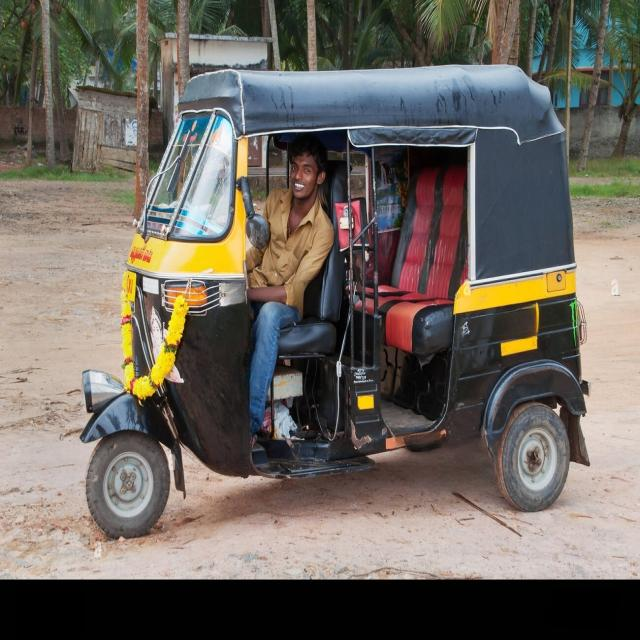autorickshaw: (80, 67, 589, 536)
